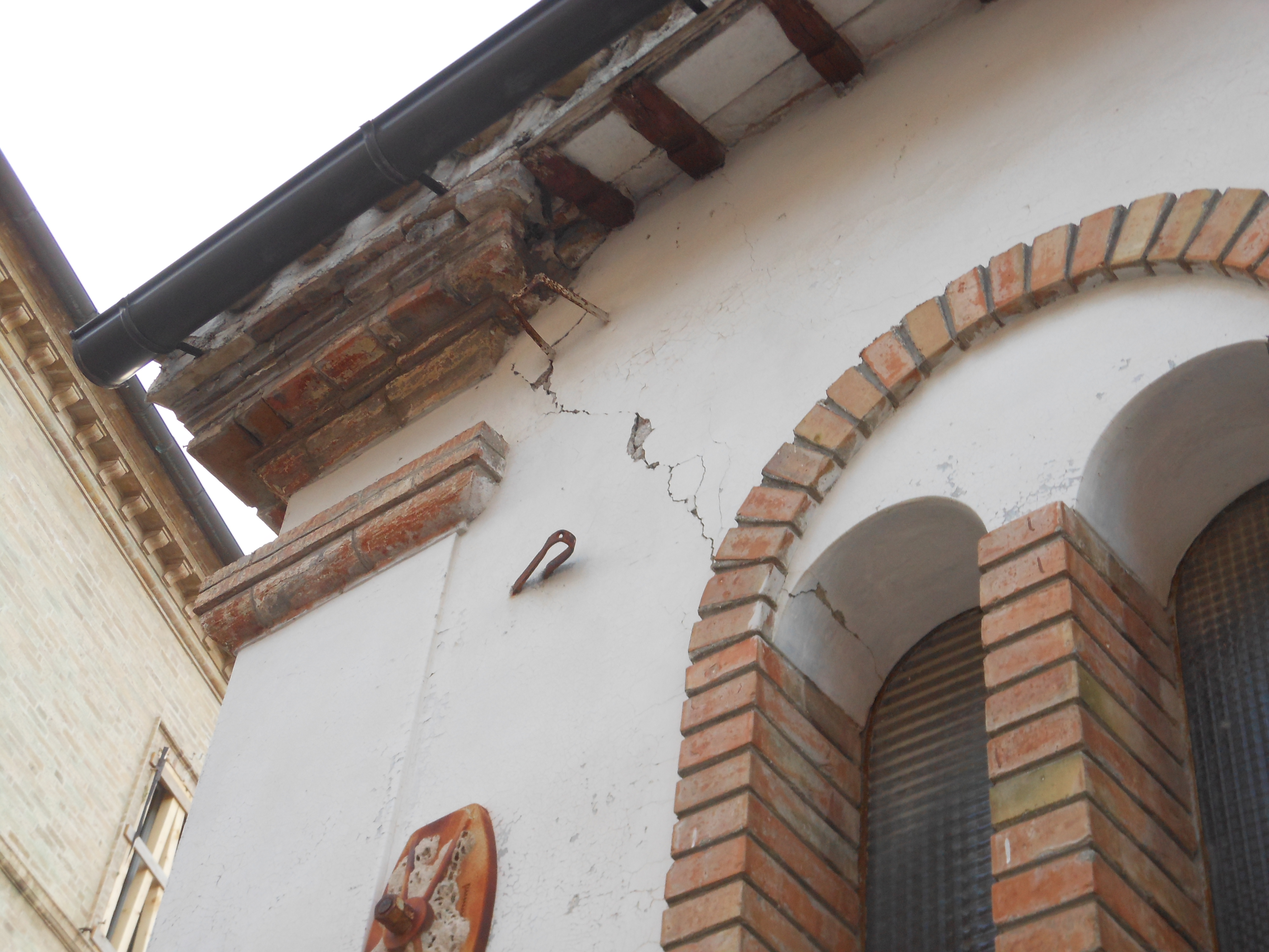Crack: (446, 260, 909, 687)
